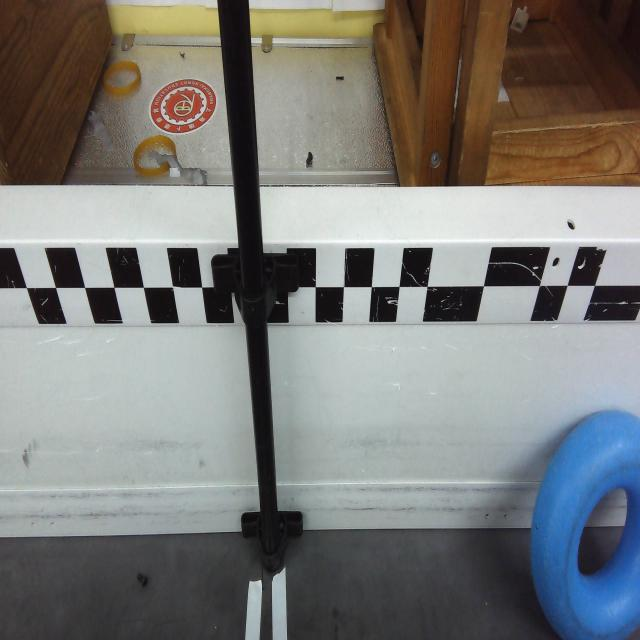Blue-Ring: (532, 407, 640, 640)
